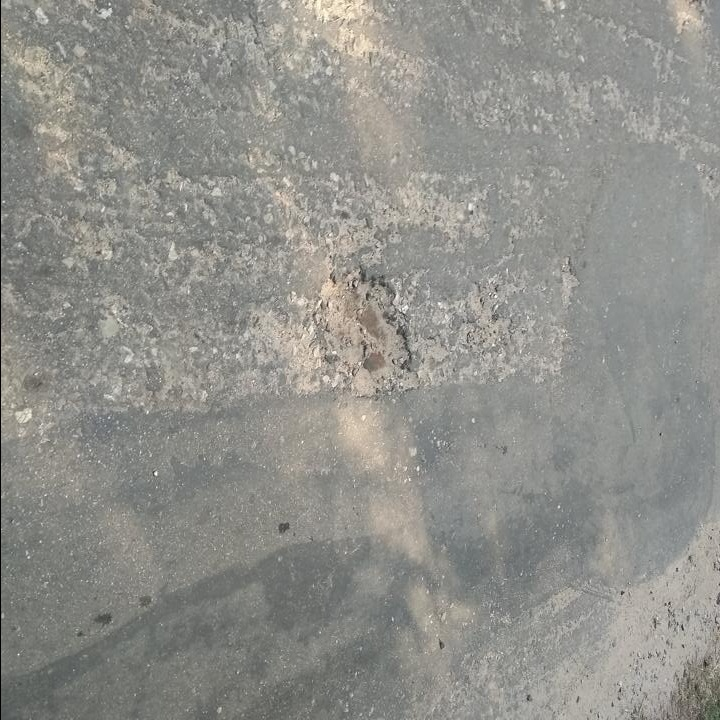pothole: (306, 254, 424, 401)
